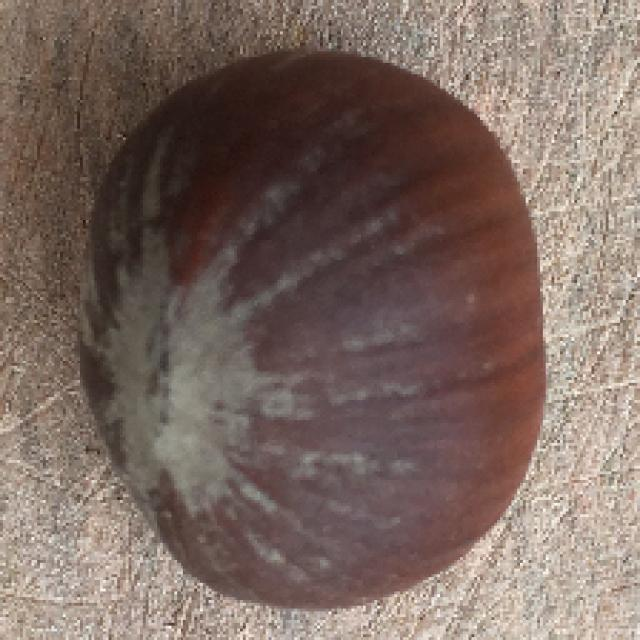qualityHazelnut: (74, 40, 554, 614)
